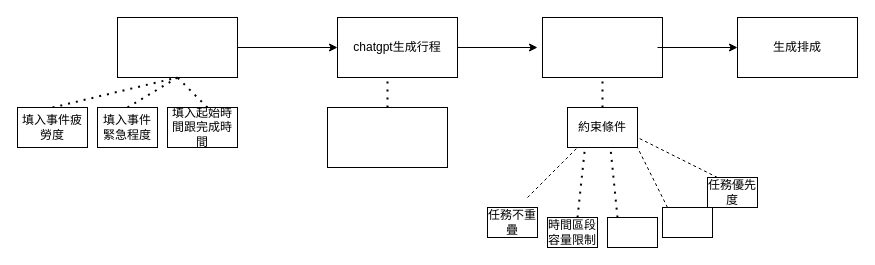
Image size: 875x265. Some labels were removed from this diagram. Here are the shapes that lost their labels. From the top down, the centre of each, then its label:
At (x=177, y=47): "使用者瑱入行程".
At (x=602, y=47): "整數規劃排成".
At (x=387, y=137): "詢問不確定行程，請求chatgpt生成完整計畫".
At (x=632, y=232): "固定時間約束".
At (x=687, y=222): "疲勞度約束".
